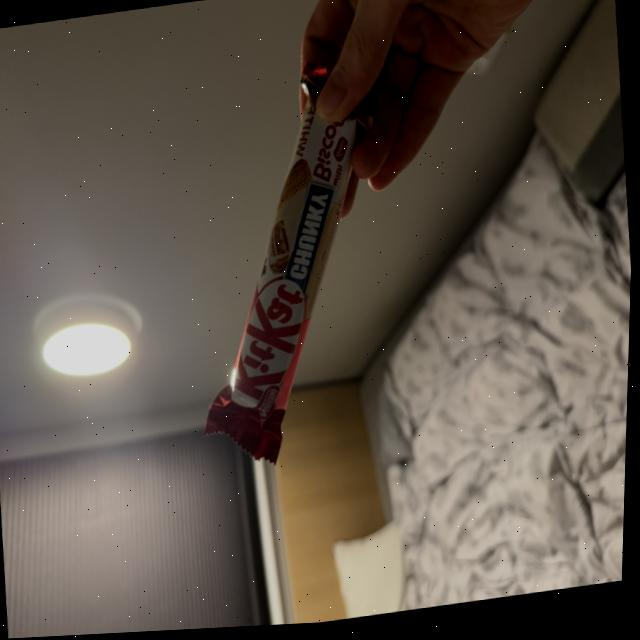chocolate: (173, 53, 409, 480)
